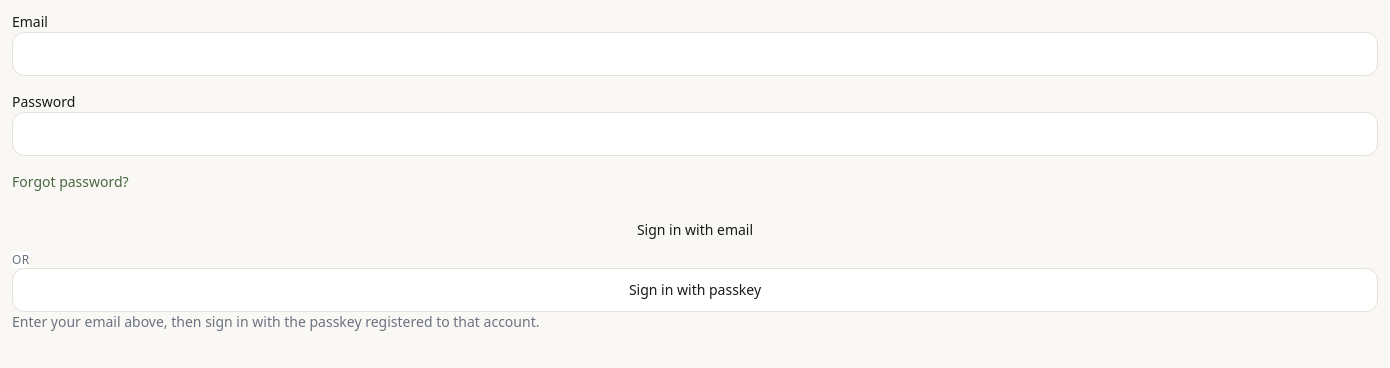
Test case: login page passkey sign-in › shows cancellation message
Click the button "Sign in with passkey".
click(695, 290)  # box [12,268,1378,312]
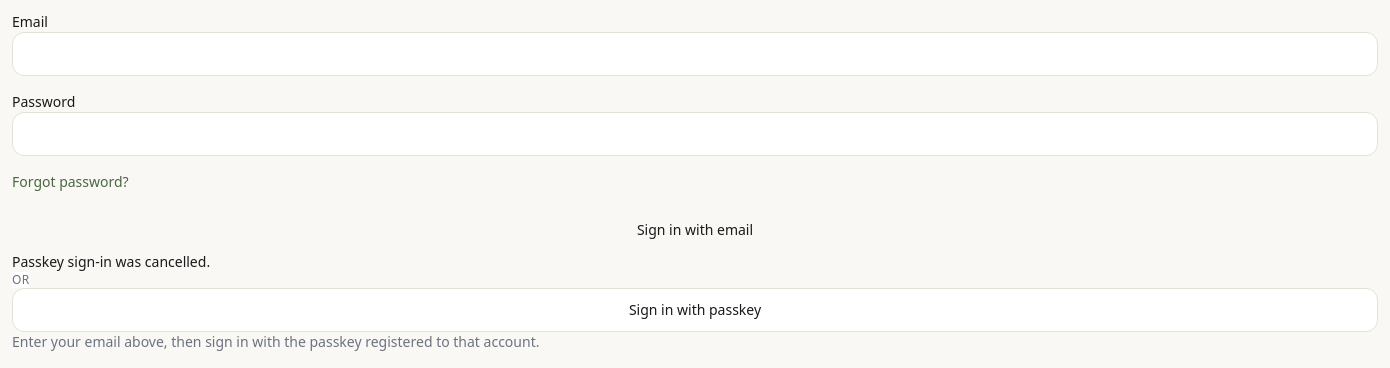
Check: the message reads "Passkey sign-in was cancelled.", box [12,252,210,271]
